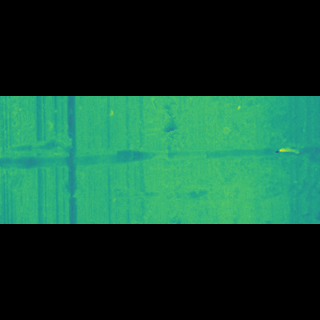Loch: (0, 146, 320, 177), (163, 133, 320, 185)
